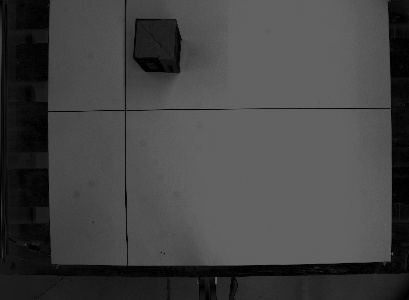b4: (130, 14, 184, 75)
